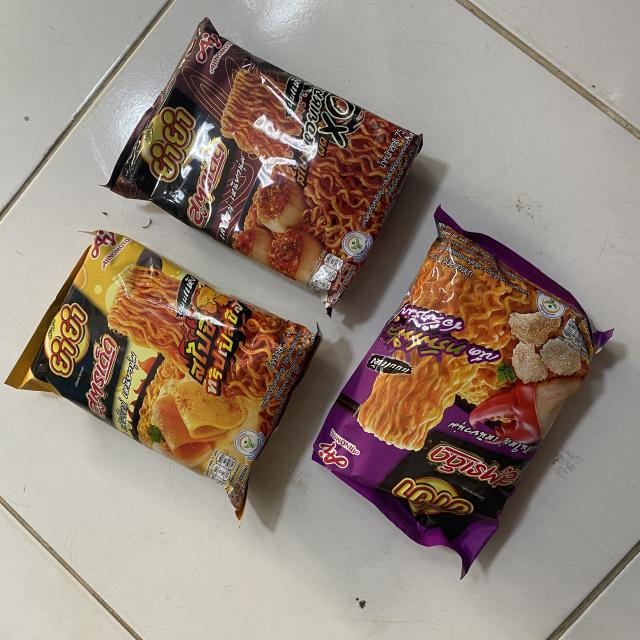plastik: (317, 208, 611, 576), (106, 18, 422, 315), (6, 231, 321, 521)
